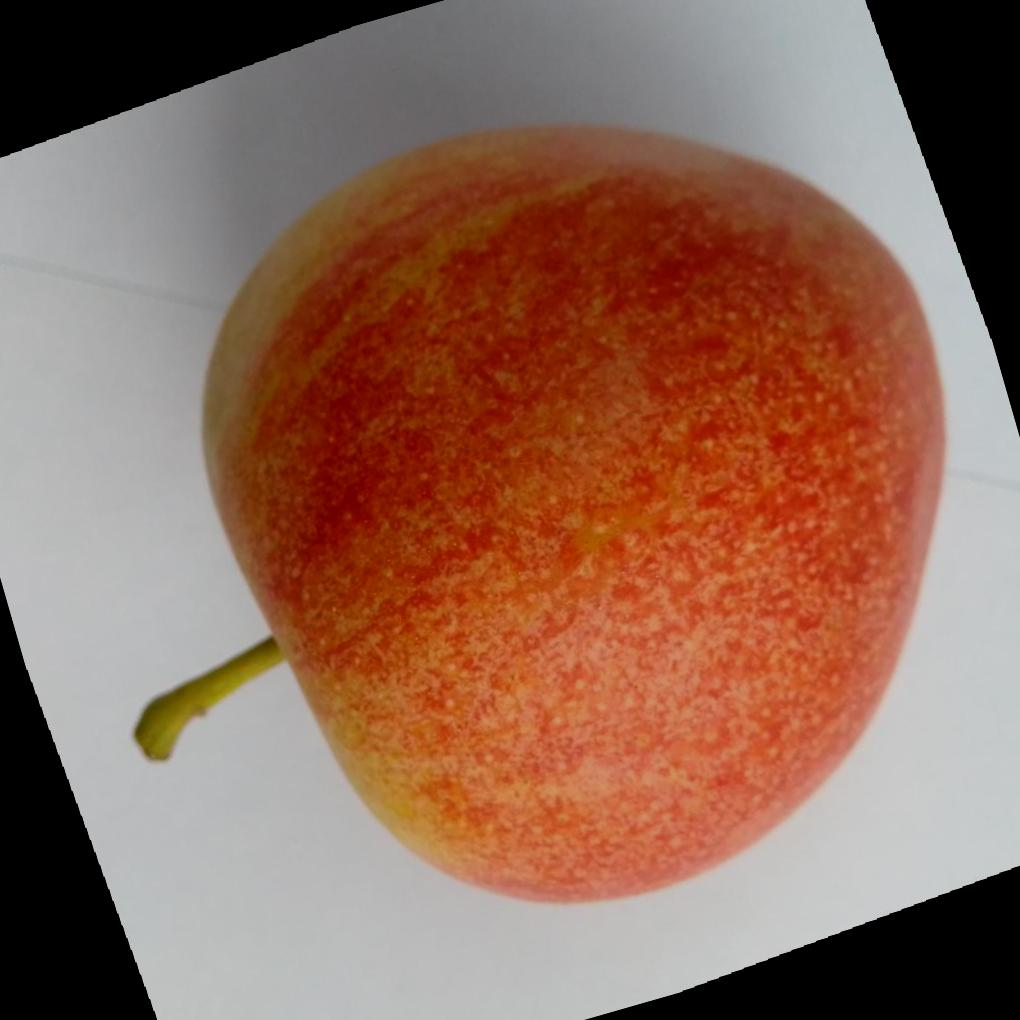FreshGuava: (197, 116, 946, 903)
